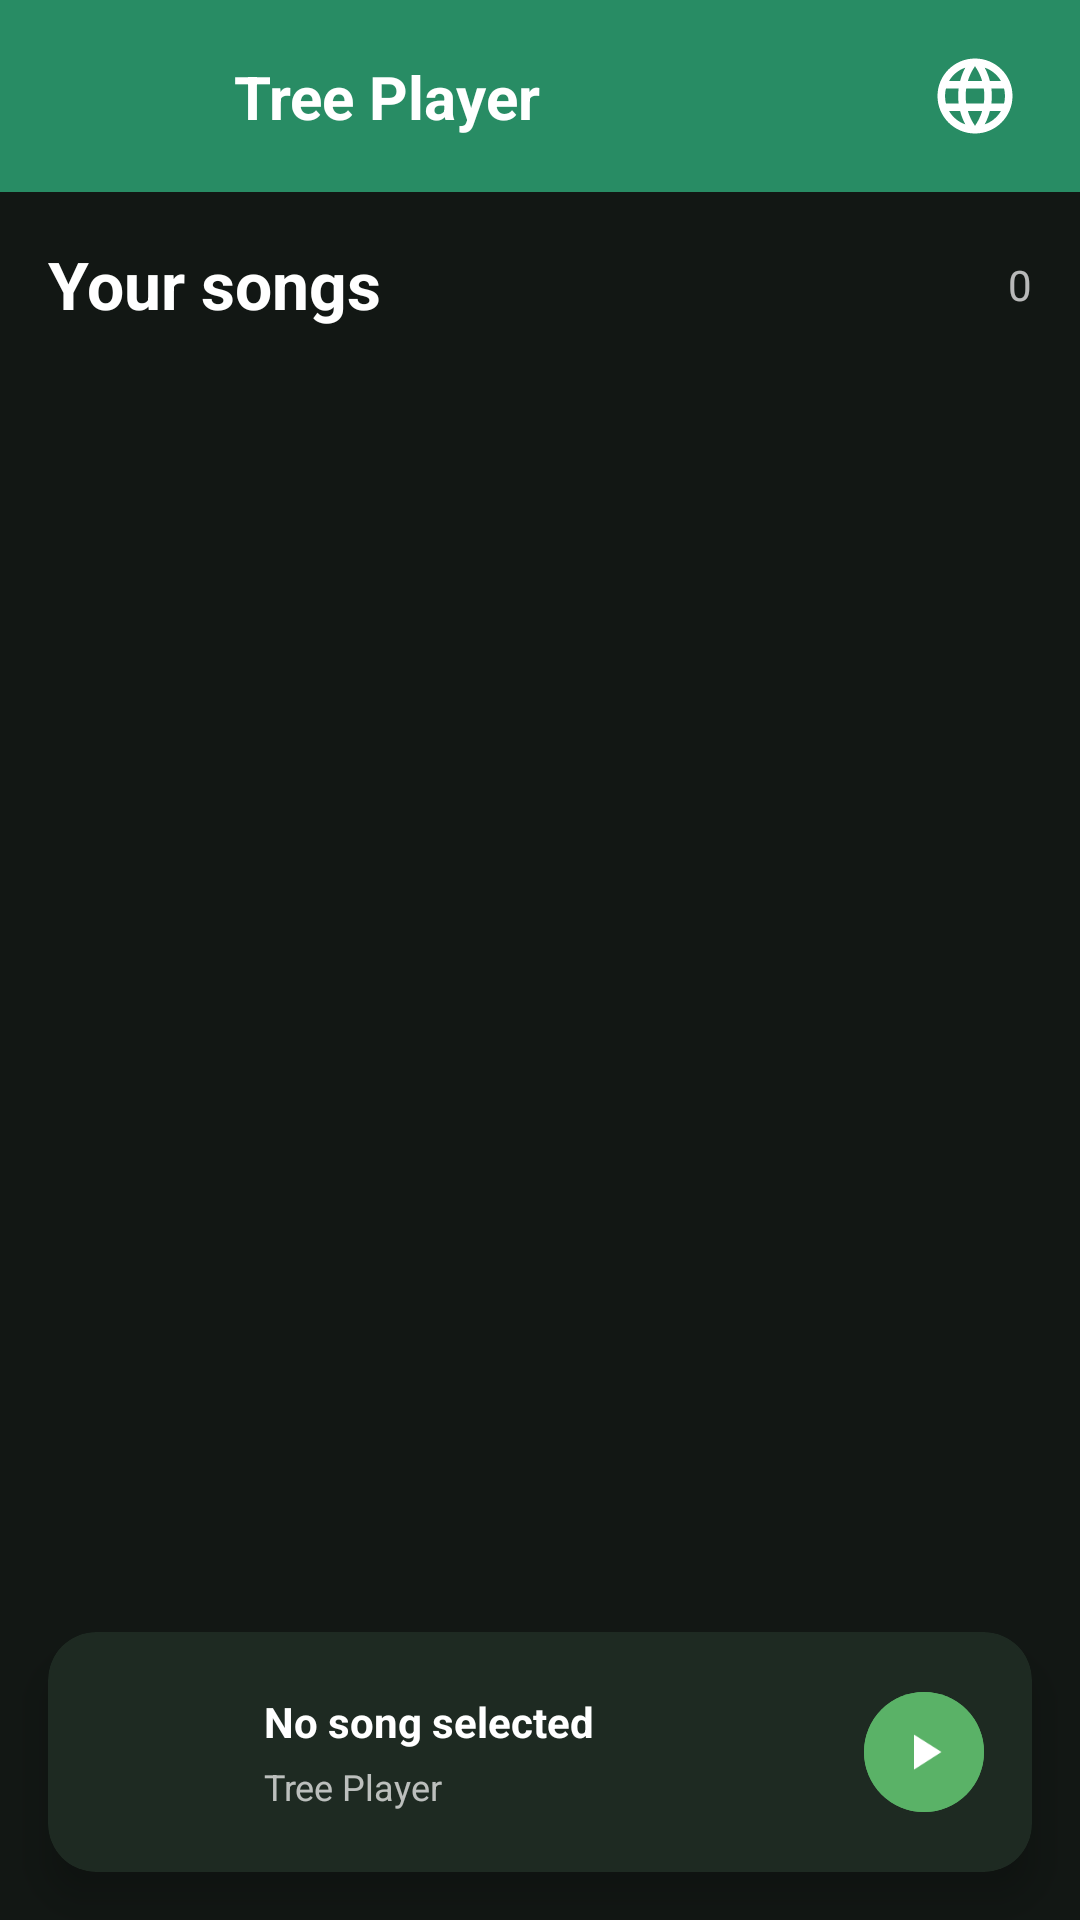

Icons on this 1080 x 1920 Android screen, each with its box as box=[x1, y1, x2, y2]:
language: box=[937, 58, 1013, 134]
